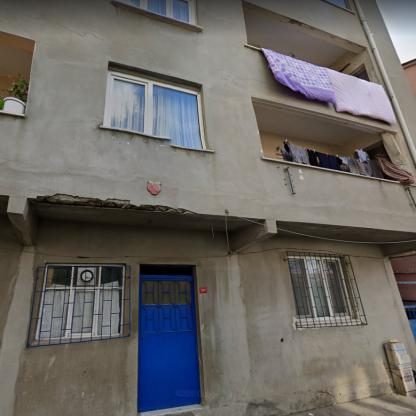door: (139, 278, 198, 410)
window: (106, 75, 204, 149), (36, 265, 124, 340), (288, 258, 350, 318), (119, 0, 190, 22), (327, 1, 347, 8)
